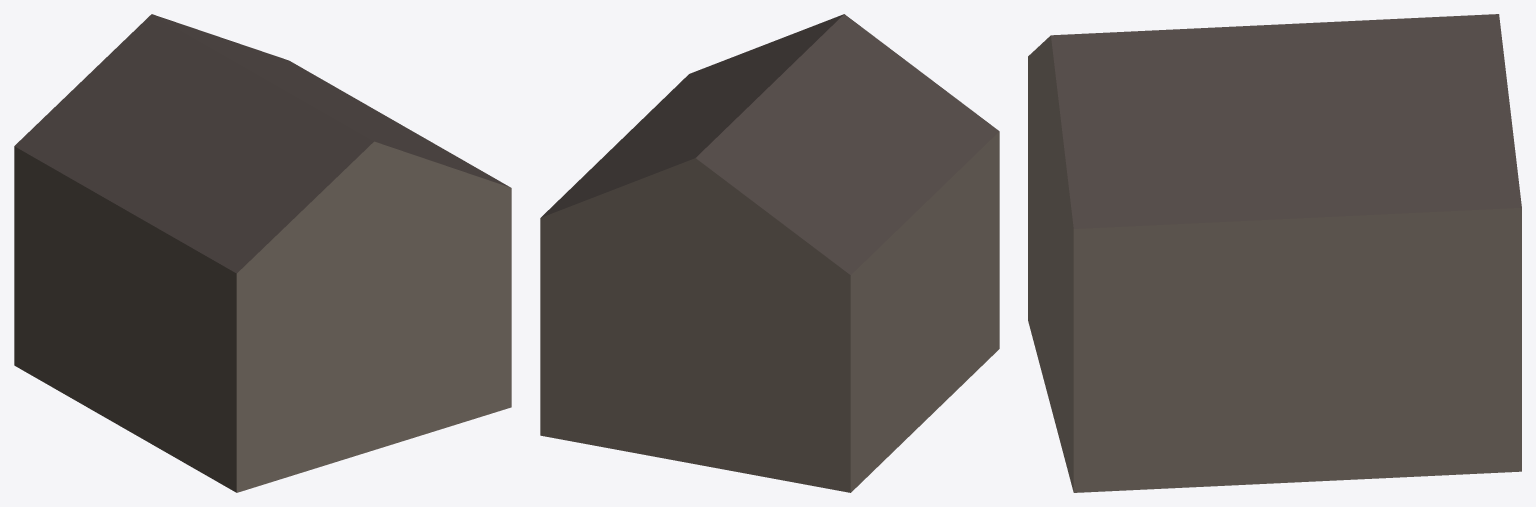
3 views of the same model, side by side, from view 1: azimuth 30°, elevation 25°; view 2: azimuth 150°, elevation 25°; view 3: azimuth 270°, elevation 25° (orthographic). The views are drawn at different scales.
Visible parts, largest first — view 1: HP-w369317557; view 2: HP-w369317557; view 3: HP-w369317557.
Boxes of the visible parts, x1=… form: HP-w369317557: x1=14, y1=14, x2=511, y2=492; HP-w369317557: x1=540, y1=14, x2=999, y2=492; HP-w369317557: x1=1028, y1=14, x2=1521, y2=492.
Size of the model in its own units: 9.45 by 8.44 by 10.18.
